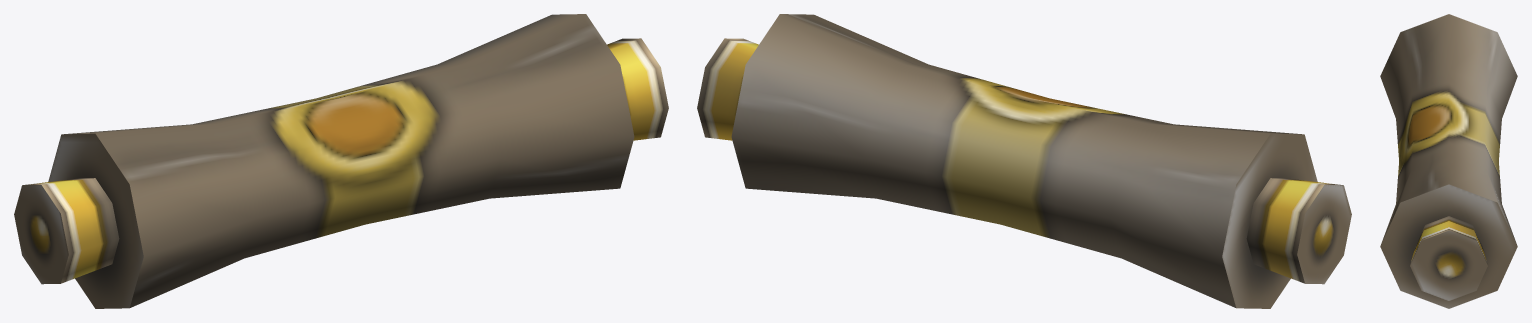
The model's file is scrollofWisdom.FBX.
3 views of the same model, side by side, from view 1: azimuth 30°, elevation 25°; view 2: azimuth 150°, elevation 25°; view 3: azimuth 270°, elevation 25° (orthographic). The views are drawn at different scales.
Parts seen in each view (by area): view 1: Cylinder01; view 2: Cylinder01; view 3: Cylinder01.
Part boxes in pixels (x1,y1,x2,y2): Cylinder01: (14, 14, 668, 308); Cylinder01: (697, 14, 1351, 308); Cylinder01: (1380, 14, 1517, 308).
Bounding box in the file's own units: 87.35 × 24.38 × 24.38.
